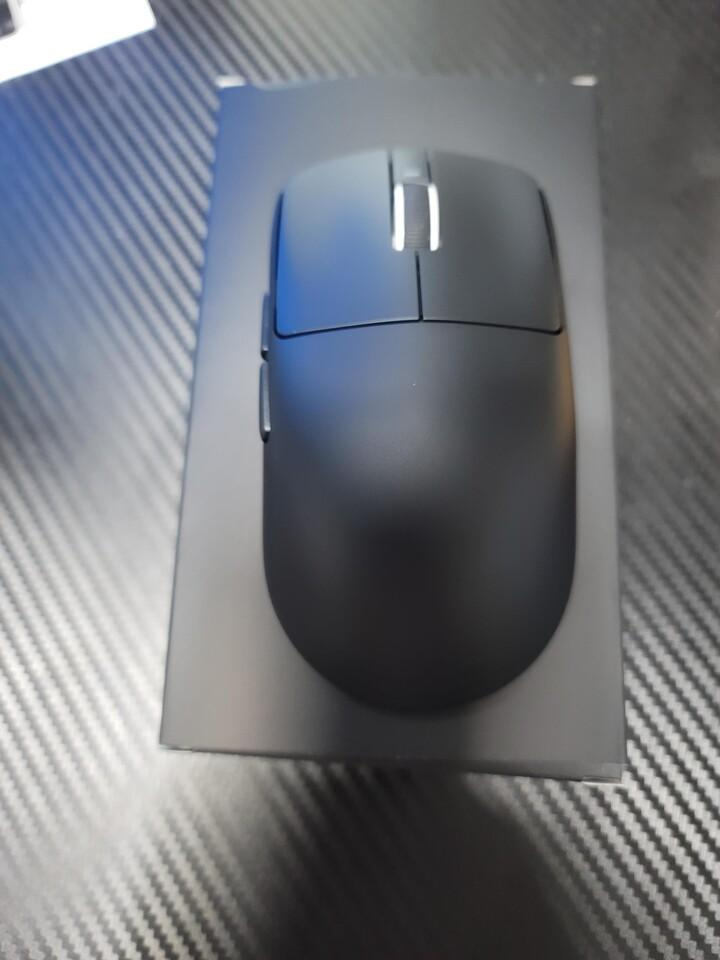mouse: (257, 151, 579, 709)
